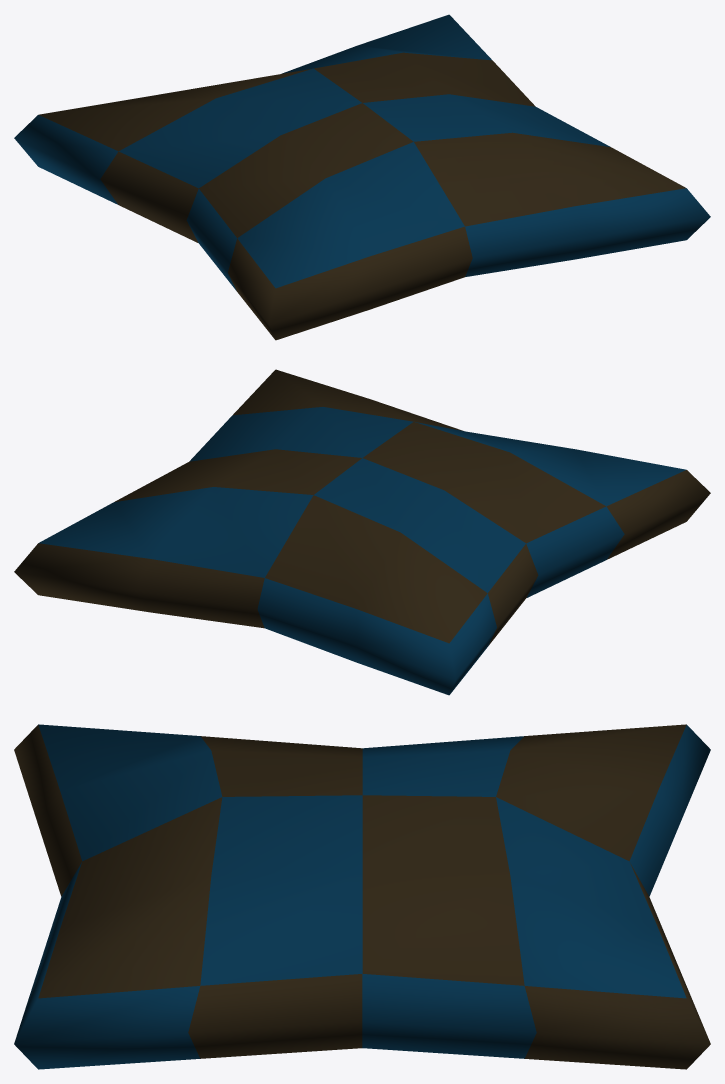
The model's file is Almofada.fbx.
3 views of the same model, one above another, from view 1: azimuth 30°, elevation 25°; view 2: azimuth 150°, elevation 25°; view 3: azimuth 270°, elevation 25° (orthographic). The views are drawn at different scales.
Parts seen in each view (by area): view 1: PillowSmall; view 2: PillowSmall; view 3: PillowSmall.
Boxes of the visible parts, left/top/right/bottom form: PillowSmall: left=14, top=14, right=710, bottom=340; PillowSmall: left=14, top=369, right=710, bottom=695; PillowSmall: left=14, top=724, right=710, bottom=1069.
Size of the model in its own units: 34.06 by 8.74 by 34.06.
